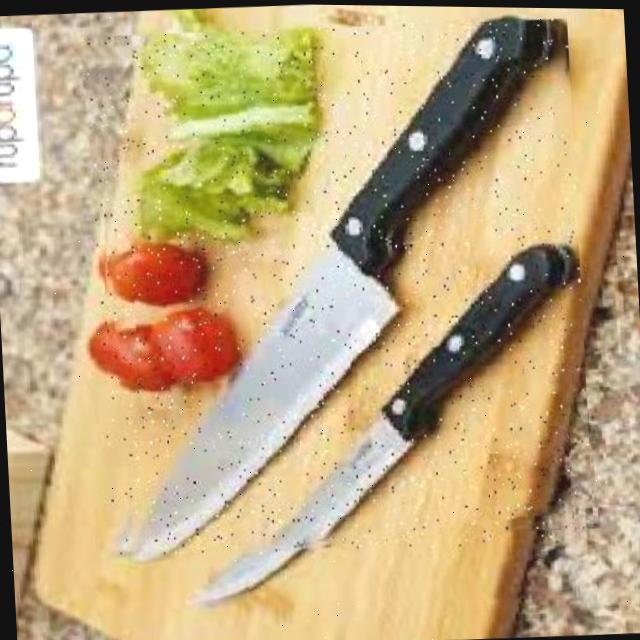knife: (85, 11, 592, 564), (175, 260, 582, 615)
